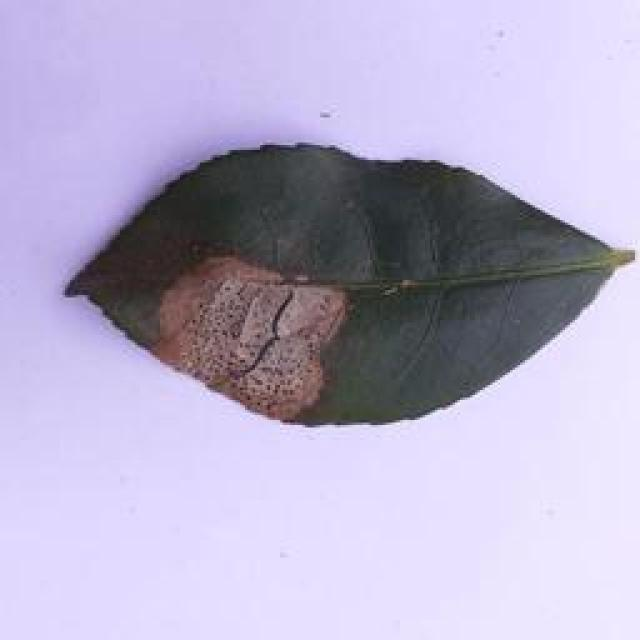Gray Blight: (58, 143, 640, 430)
